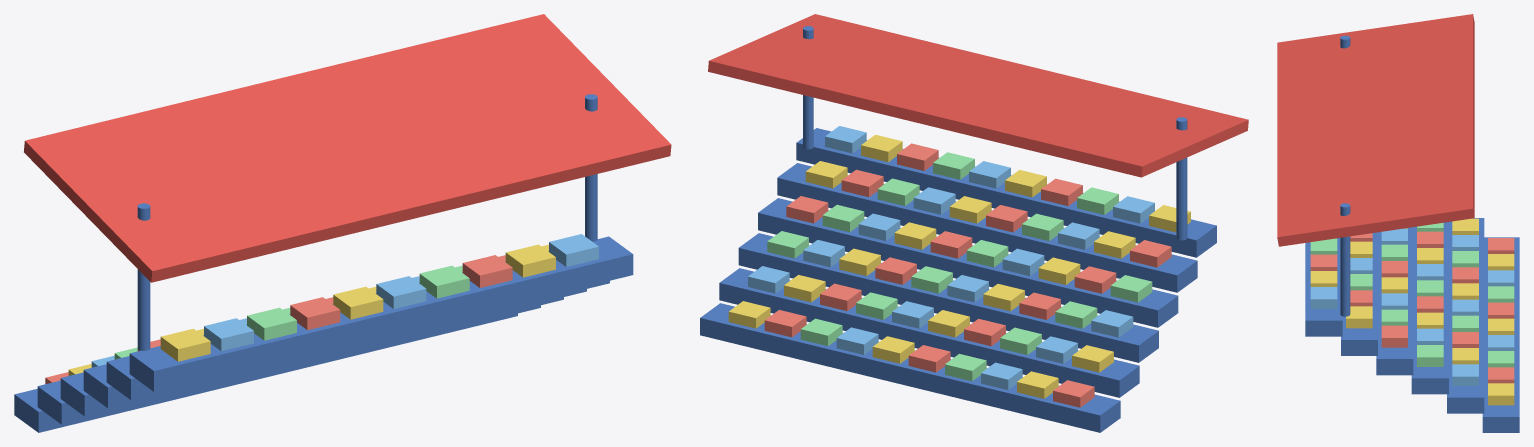
Rendered from grandstand_v2.glb.
3 renders of one model, left to right at view 1: azimuth 30°, elevation 25°; view 2: azimuth 150°, elevation 25°; view 3: azimuth 270°, elevation 25°, orthographic. The views are drawn at different scales.
Parts seen in each view (by area): view 1: Roof, Step5, Step2, Step1, Step0, Step4, Step3, RoofPost-1, Seat5_0, Seat5_4, Seat5_7, Seat5_3 (+7 smaller); view 2: Roof, Step0, Step2, Step3, Step4, Step1, Step5, RoofPost-1, Seat3_0, Seat2_0, Seat0_0, Seat1_0 (+57 smaller); view 3: Roof, Step0, Step1, Step2, Step3, Step5, Step4, RoofPost1, Seat0_9, Seat3_9, Seat5_9, Seat1_9 (+40 smaller).
Boxes of the visible parts, box(x1,y1,x2,y2) form: Roof: box(24, 14, 671, 282); Step5: box(129, 236, 633, 391); Step2: box(60, 297, 563, 416); Step1: box(37, 305, 540, 424); Step0: box(14, 313, 517, 432); Step4: box(106, 281, 609, 399); Step3: box(83, 289, 586, 408); RoofPost-1: box(137, 203, 150, 350); Seat5_0: box(160, 328, 210, 361); Seat5_4: box(333, 286, 383, 319); Seat5_7: box(462, 255, 512, 287); Seat5_3: box(290, 297, 340, 330); Roof: box(708, 14, 1248, 177); Step0: box(700, 303, 1120, 432); Step2: box(738, 233, 1158, 362); Step3: box(758, 198, 1178, 327); Step4: box(777, 163, 1197, 292); Step1: box(719, 268, 1139, 397); Step5: box(796, 128, 1216, 257); RoofPost-1: box(1176, 117, 1187, 240); Seat3_0: box(1110, 275, 1152, 302); Seat2_0: box(1091, 310, 1133, 337); Seat0_0: box(1053, 380, 1094, 407); Seat1_0: box(1072, 345, 1113, 372); Roof: box(1277, 14, 1474, 246); Step0: box(1482, 237, 1519, 432); Step1: box(1447, 218, 1484, 413); Step2: box(1411, 222, 1448, 394); Step3: box(1376, 227, 1413, 375); Step5: box(1305, 238, 1342, 336); Step4: box(1341, 232, 1377, 355); RoofPost1: box(1340, 203, 1350, 316); Seat0_9: box(1488, 383, 1514, 405); Seat3_9: box(1381, 325, 1407, 347); Seat5_9: box(1310, 287, 1337, 308); Seat1_9: box(1452, 364, 1478, 385).
Bounding box in the file's own units: 13 × 7.22 × 6.85.
